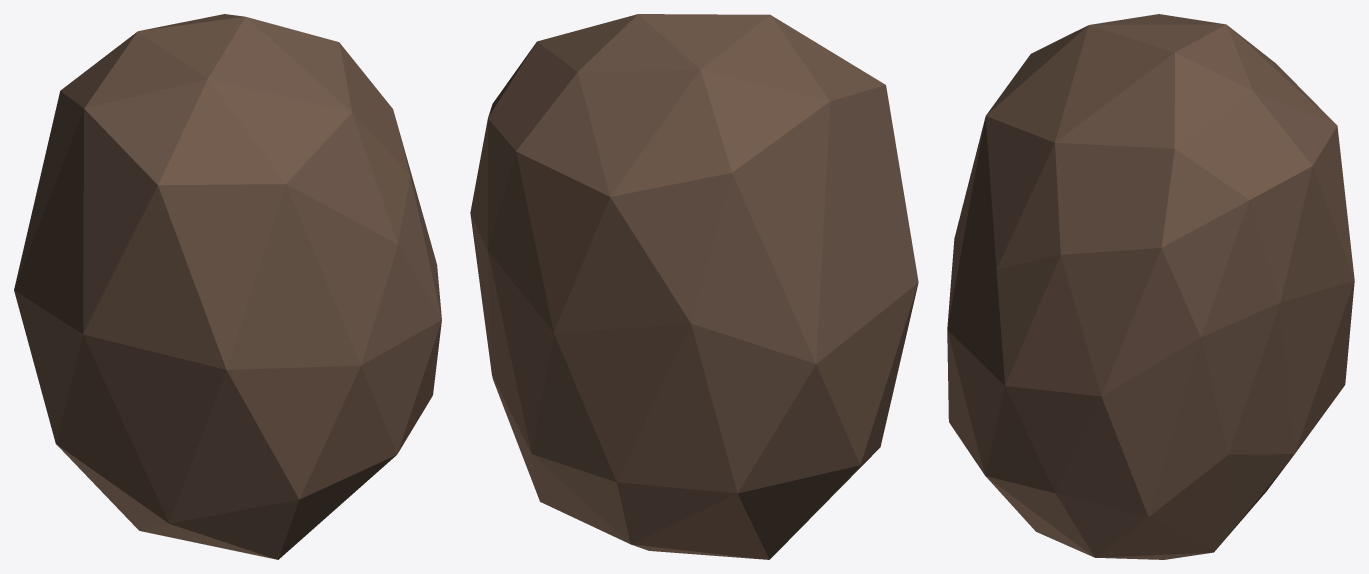
Rendered from Potato_01.fbx.
3 renders of one model, left to right at view 1: azimuth 30°, elevation 25°; view 2: azimuth 150°, elevation 25°; view 3: azimuth 270°, elevation 25°, orthographic. The views are drawn at different scales.
Visible parts, largest first — view 1: Potato_01; view 2: Potato_01; view 3: Potato_01.
Boxes of the visible parts, x1,y1,x2,y2 form: Potato_01: (14, 14, 441, 559); Potato_01: (470, 14, 918, 559); Potato_01: (947, 14, 1354, 559).
Size of the model in its own units: 8.79 by 11.41 by 8.27.
